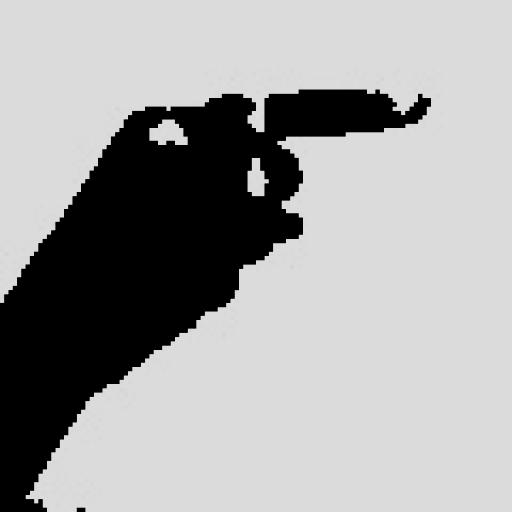index_right: (0, 87, 432, 311)
